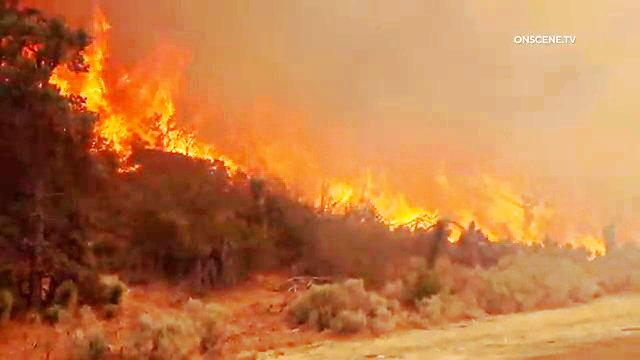smoke: (66, 5, 195, 159)
